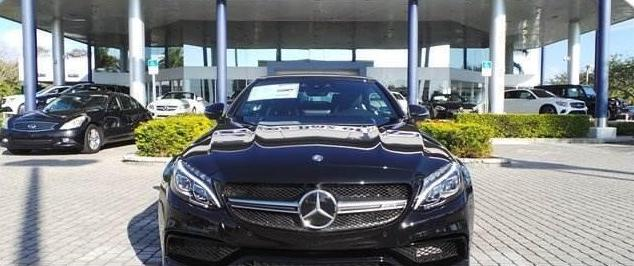C63AMG: (150, 68, 479, 266)
